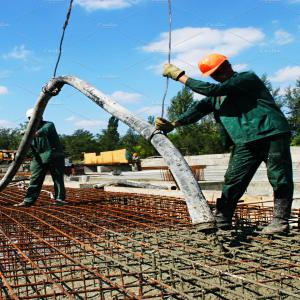red: (198, 54, 233, 84), (134, 154, 138, 158)
white: (28, 109, 43, 122)
